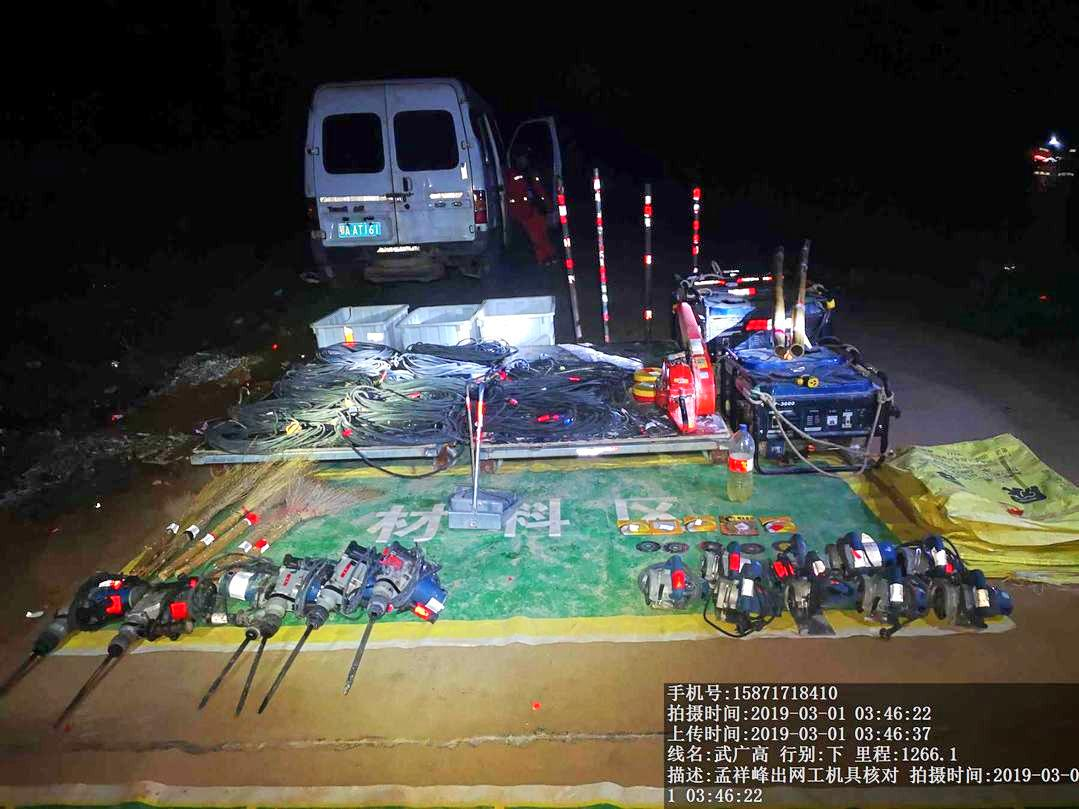BZD: (892, 440, 1079, 566)
DJ: (727, 349, 900, 466)
DZ: (78, 579, 205, 714), (353, 546, 435, 682)
GFJ: (671, 306, 718, 433)
SB: (128, 475, 222, 567), (260, 478, 371, 554)
T: (310, 299, 405, 352), (479, 293, 566, 343), (399, 299, 478, 345)
